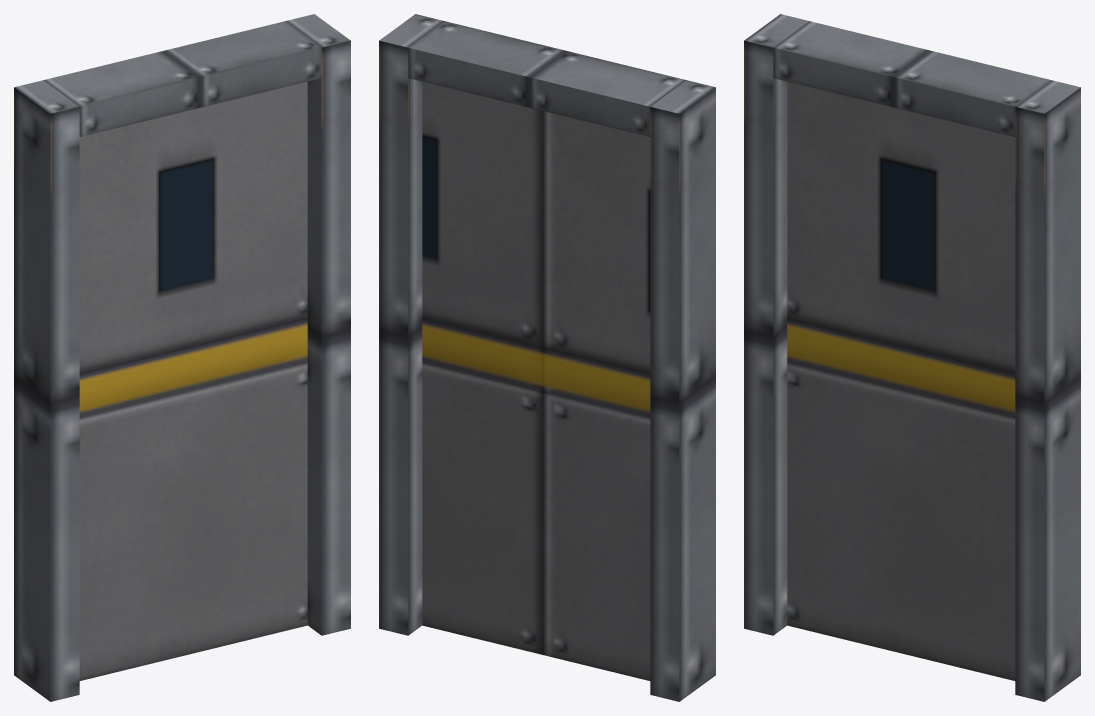
The model's file is door_station.obj.
3 renders of one model, left to right at view 1: azimuth 30°, elevation 25°; view 2: azimuth 150°, elevation 25°; view 3: azimuth 330°, elevation 25°, orthographic.
Parts seen in each view (by area): view 1: door_station_r_leaf, door_station_l_leaf, door_station, door_station_frame_r, door_station_frame_top; view 2: door_station_r_leaf, door_station_l_leaf, door_station, door_station_frame_r, door_station_frame_top; view 3: door_station_l_leaf, door_station_r_leaf, door_station_frame_r, door_station, door_station_frame_top.
Boxes of the visible parts, x1=… form: door_station_r_leaf: x1=186, y1=81, x2=307, y2=654; door_station_l_leaf: x1=79, y1=111, x2=186, y2=680; door_station: x1=14, y1=80, x2=79, y2=701; door_station_frame_r: x1=286, y1=14, x2=350, y2=635; door_station_frame_top: x1=43, y1=21, x2=321, y2=136; door_station_r_leaf: x1=422, y1=81, x2=543, y2=654; door_station_l_leaf: x1=543, y1=111, x2=650, y2=680; door_station: x1=650, y1=80, x2=715, y2=701; door_station_frame_r: x1=379, y1=14, x2=443, y2=635; door_station_frame_top: x1=408, y1=21, x2=686, y2=136; door_station_l_leaf: x1=787, y1=81, x2=908, y2=654; door_station_r_leaf: x1=908, y1=111, x2=1015, y2=680; door_station_frame_r: x1=1015, y1=80, x2=1080, y2=701; door_station: x1=744, y1=14, x2=808, y2=635; door_station_frame_top: x1=773, y1=21, x2=1051, y2=136.
Bounding box in the file's own units: 1.24 × 2.32 × 0.26.
Materials: 1 (1 with a texture image).
